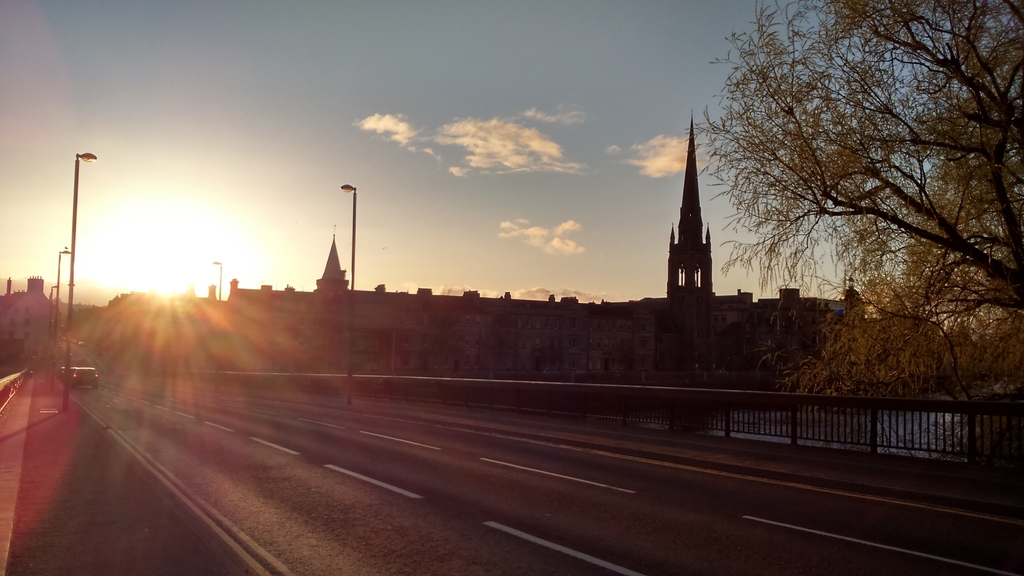Tree: (730, 11, 1001, 394)
